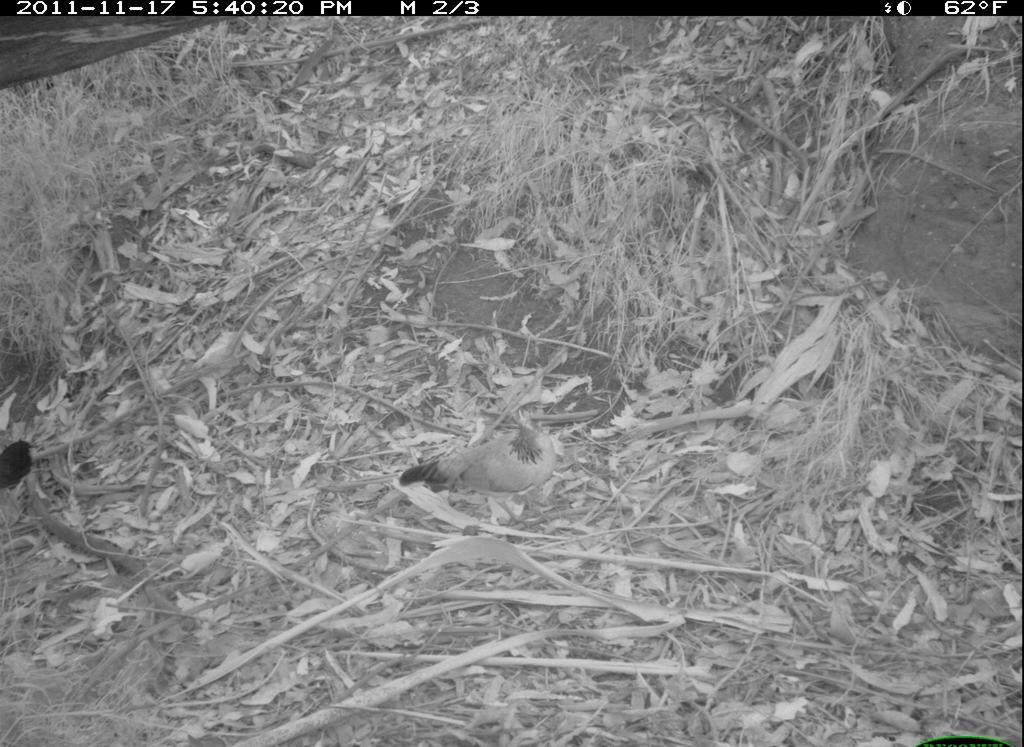bird: (2, 440, 39, 493)
